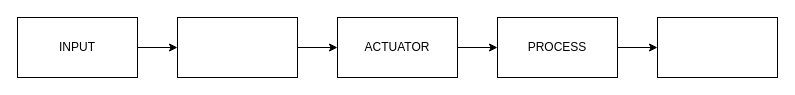
The diagram is 795 pixels wide and 95 high, and some of its shapes have lost their labels. Here are the shapes that lost their labels. From the top down, the centre of each, then its label:
At point 237,47: "CONTROLLER".
At point 717,47: "OUTPUT".
